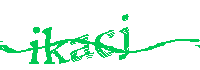a: (69, 34, 93, 61)
c: (93, 28, 117, 59)
i: (30, 25, 40, 65)
j: (119, 12, 130, 63)
k: (42, 27, 69, 66)
